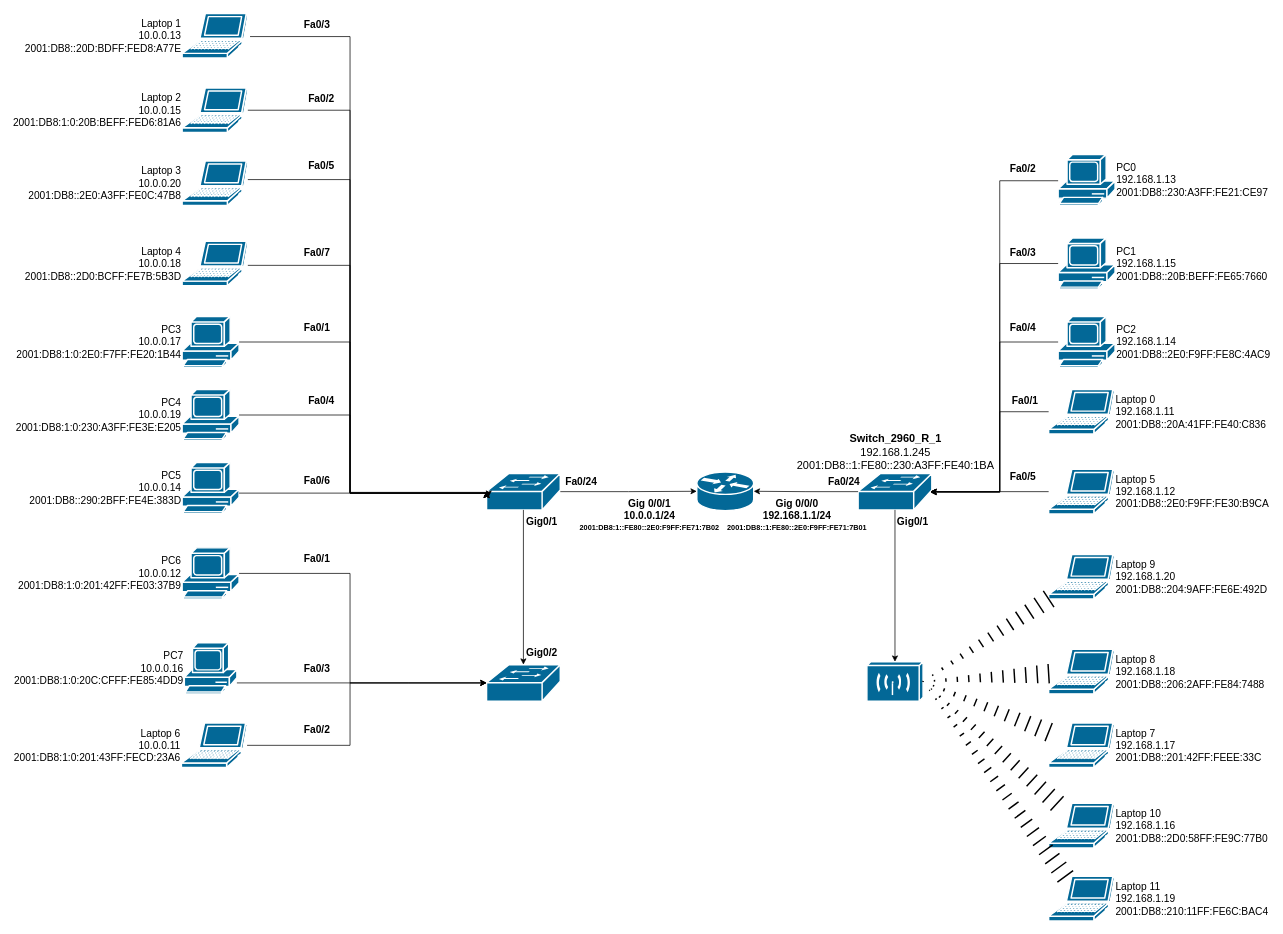
The diagram is 1283 pixels wide and 934 high, and some of its shapes have lost their labels. The centre of each missing label's shape, as x and y in pixels:
"ISR_4331_1" goes at [725,491].
"Switch_2960_L_1 10.0.0.245 2001:DB8::1:FE80::290:CFF:FE05:6260" goes at [523,491].
"Switch_2960_L_2 10.0.0.246 2001:DB8::1:FE80::260:70FF:FE45:861B" goes at [523,683].
